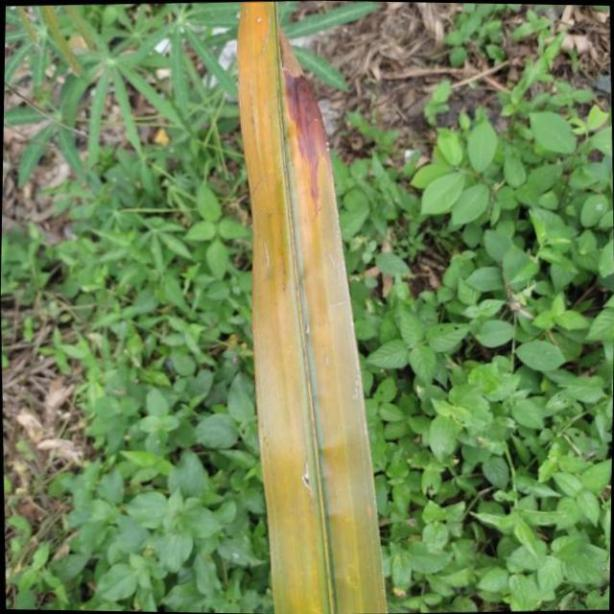Megnesium: (233, 9, 385, 614)
